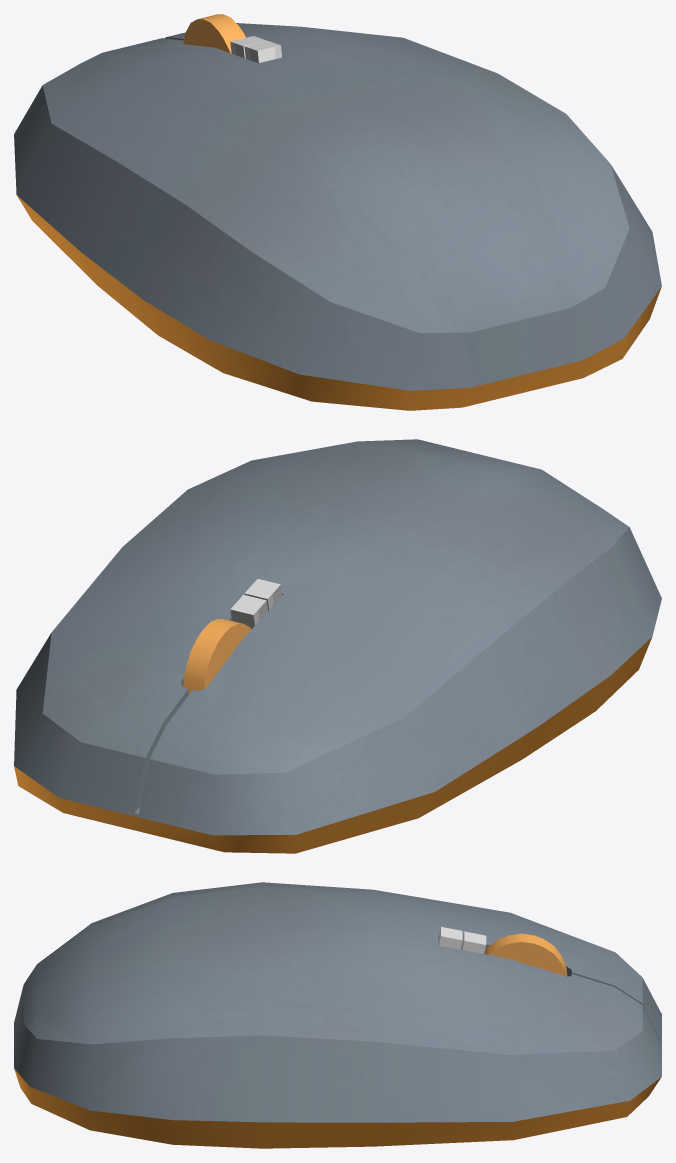
Rendered from mouse.glb.
3 renders of one model, top to bottom at view 1: azimuth 30°, elevation 25°; view 2: azimuth 150°, elevation 25°; view 3: azimuth 270°, elevation 25°, orthographic. The views are drawn at different scales.
Visible parts, largest first — view 1: mouse; view 2: mouse; view 3: mouse.
Boxes of the visible parts, box(x1,y1,x2,y2) form: mouse: box(14, 14, 661, 410); mouse: box(14, 439, 661, 853); mouse: box(14, 882, 661, 1148).
Size of what is drawn, in the model's own units: 0.175 by 0.0625 by 0.2541.
2 materials, 2 textured.
